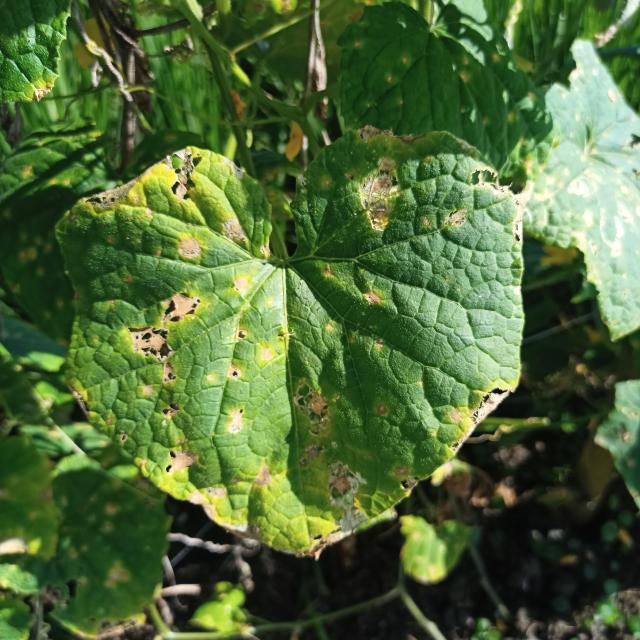disease_cucumber: (62, 127, 499, 548)
